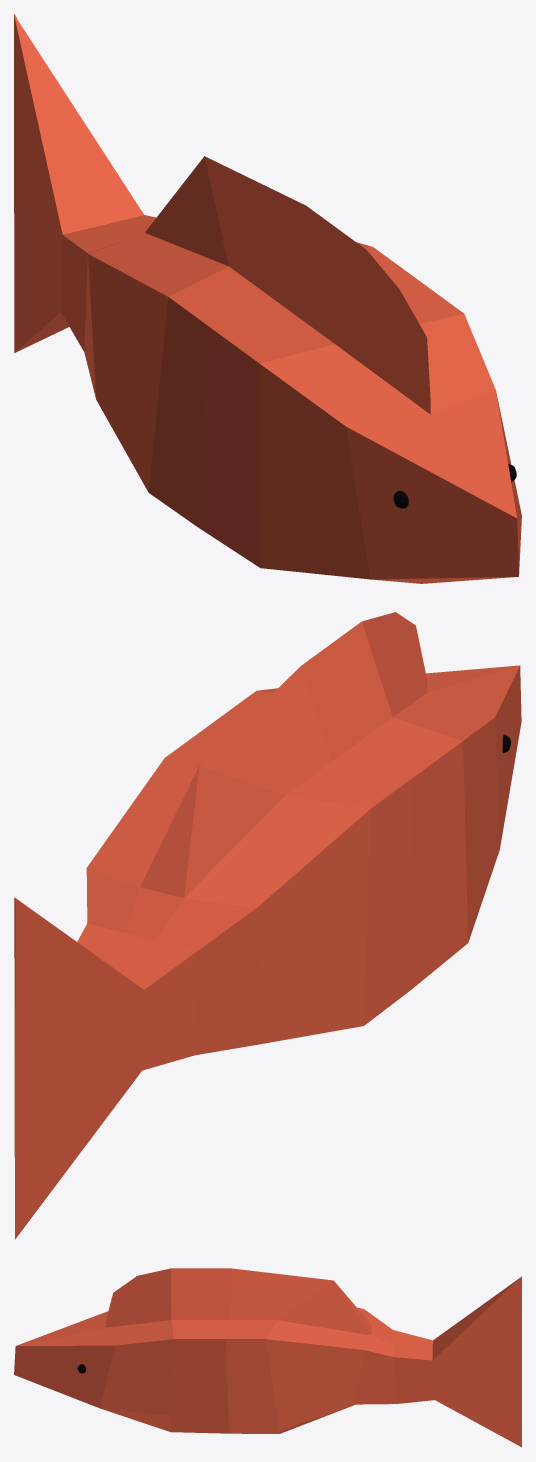
Rendered from Fish.glb.
The picture shows the model from 3 angles, top to bottom: view 1: azimuth 30°, elevation 25°; view 2: azimuth 150°, elevation 25°; view 3: azimuth 270°, elevation 25°; orthographic projection. The views are drawn at different scales.
Parts seen in each view (by area): view 1: fISH; view 2: fISH; view 3: fISH.
Boxes of the visible parts, left/top/right/bottom form: fISH: left=14, top=14, right=521, bottom=583; fISH: left=14, top=612, right=521, bottom=1239; fISH: left=14, top=1268, right=521, bottom=1447.
Bounding box in the file's own units: 0.1241 × 0.1865 × 0.4766.
Materials: 2 (2 with a texture image).
